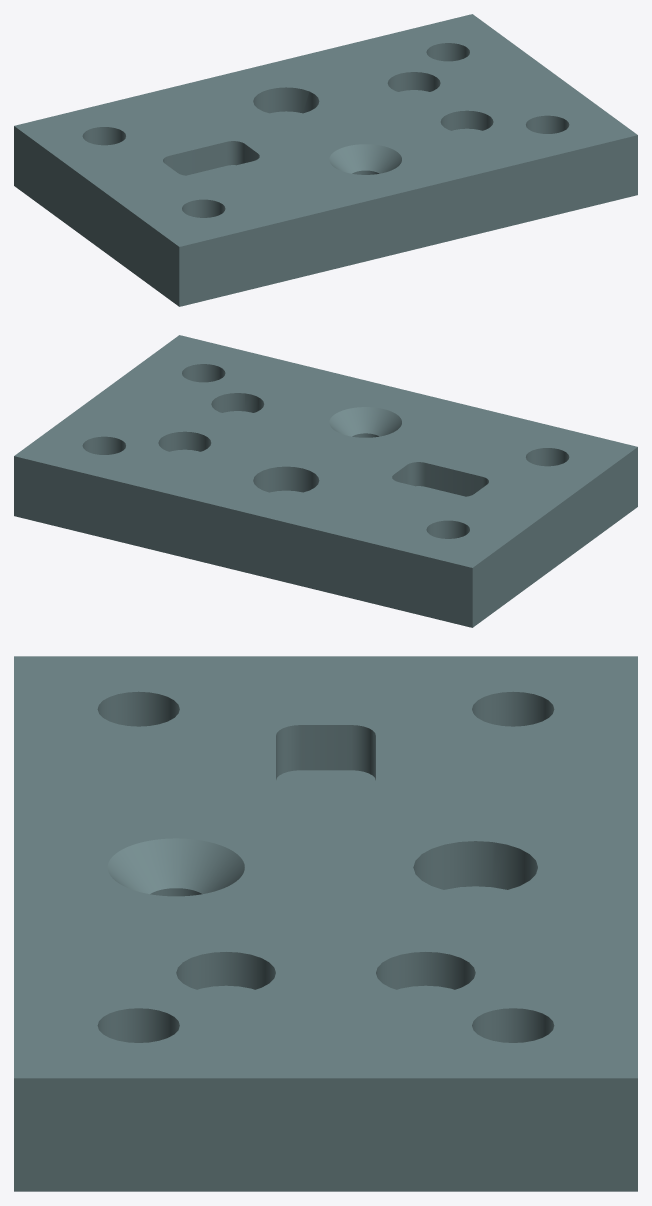
Rendered from edits_machining.glb.
3 views of the same model, one above another, from view 1: azimuth 30°, elevation 25°; view 2: azimuth 150°, elevation 25°; view 3: azimuth 270°, elevation 25° (orthographic). The views are drawn at different scales.
Parts seen in each view (by area): view 1: plate; view 2: plate; view 3: plate.
Boxes of the visible parts, x1,y1,x2,y2 form: plate: [14, 14, 637, 306]; plate: [14, 335, 637, 627]; plate: [14, 656, 637, 1191].
Size of the model in its own units: 0.08 by 0.01 by 0.05.
